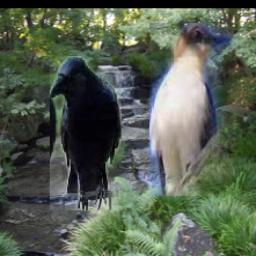Crow: (50, 57, 122, 211)
Cuckoo: (149, 24, 235, 197)
